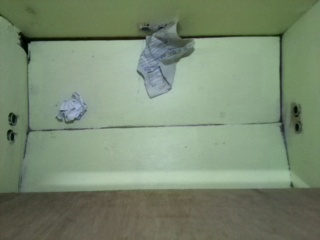paper: (132, 22, 197, 99), (54, 93, 92, 125)
